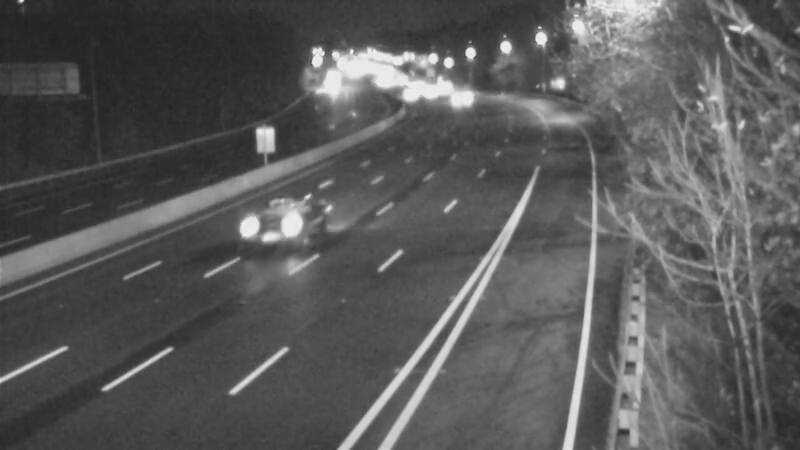vehicle: (230, 181, 310, 261), (381, 69, 431, 119), (436, 76, 486, 126)
